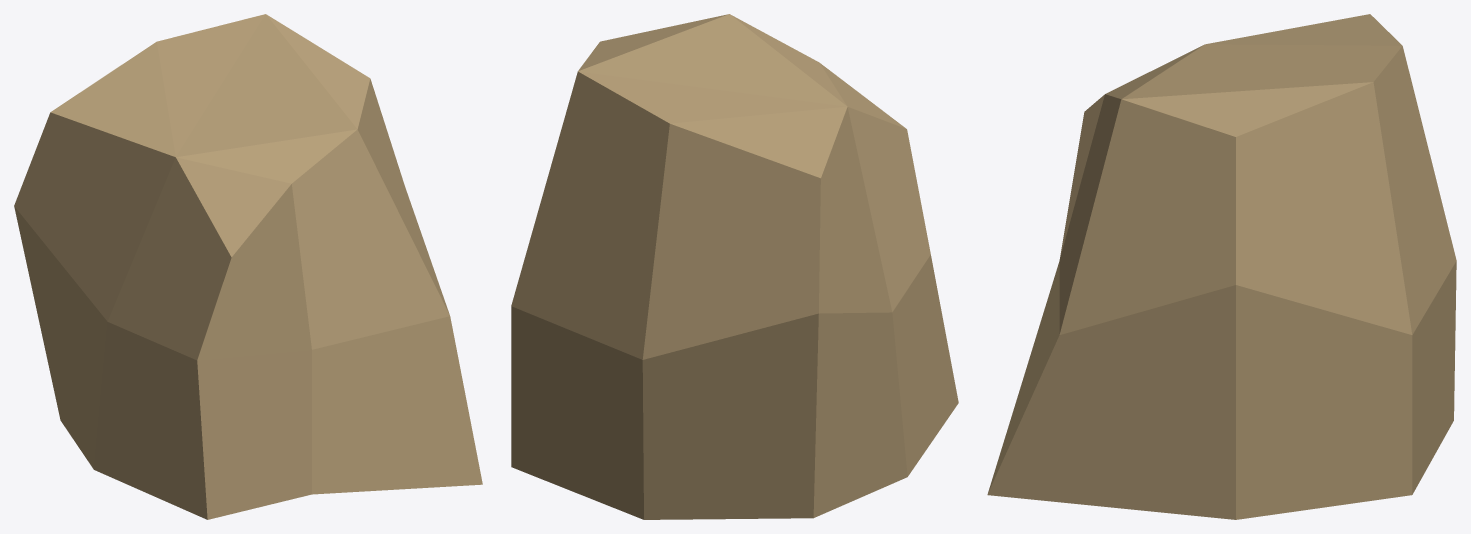
File: FlatRock-A07.fbx
3 renders of one model, left to right at view 1: azimuth 30°, elevation 25°; view 2: azimuth 150°, elevation 25°; view 3: azimuth 270°, elevation 25°, orthographic. The views are drawn at different scales.
Visible parts, largest first — view 1: FlatRock-A07; view 2: FlatRock-A07; view 3: FlatRock-A07.
Part boxes in pixels (x1,y1,x2,y2): FlatRock-A07: [14, 14, 482, 519]; FlatRock-A07: [511, 14, 958, 519]; FlatRock-A07: [987, 14, 1456, 519].
Size of the model in its own units: 233 by 244 by 266.
